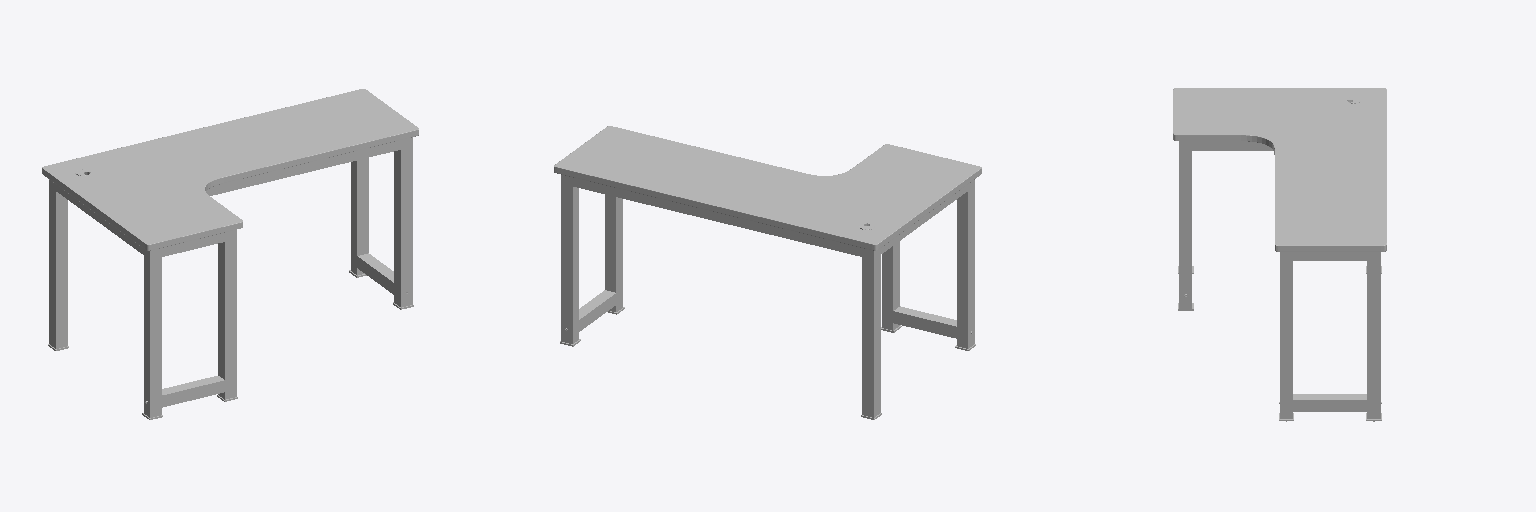
Rendered from desk.obj.
3 renders of one model, left to right at view 1: azimuth 30°, elevation 25°; view 2: azimuth 150°, elevation 25°; view 3: azimuth 270°, elevation 25°, orthographic.
Visible parts, largest first — view 1: desk; view 2: desk; view 3: desk.
Part boxes in pixels (x1,y1,x2,y2): desk: (42,89,418,419); desk: (554,126,981,419); desk: (1173,88,1386,421).
Size of the model in its own units: 1.4 by 0.7411 by 0.8.